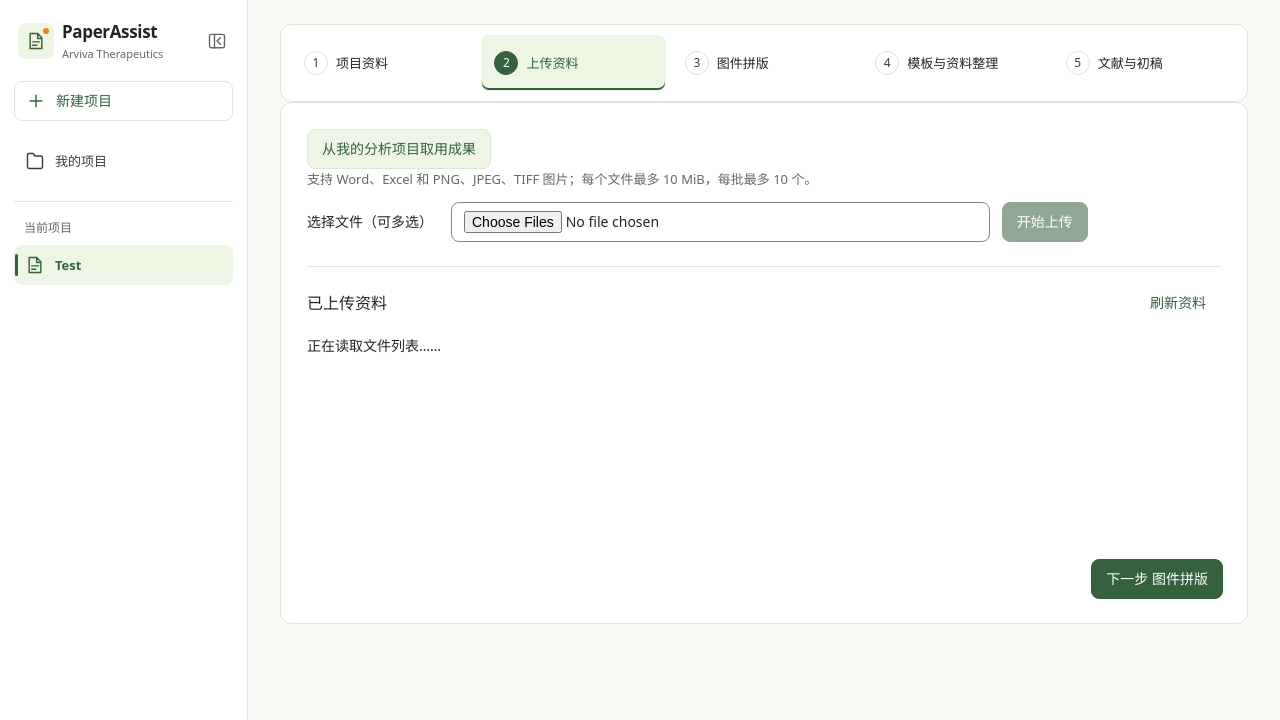
Scenario: opens thesis figure assembly and saves a formal figure in the school organizer
The image size is (1280, 720).
Later steps or results of the test are not shown.
Click the button "下一步 图件拼版".
click(1157, 579)  # box [1091, 559, 1223, 599]
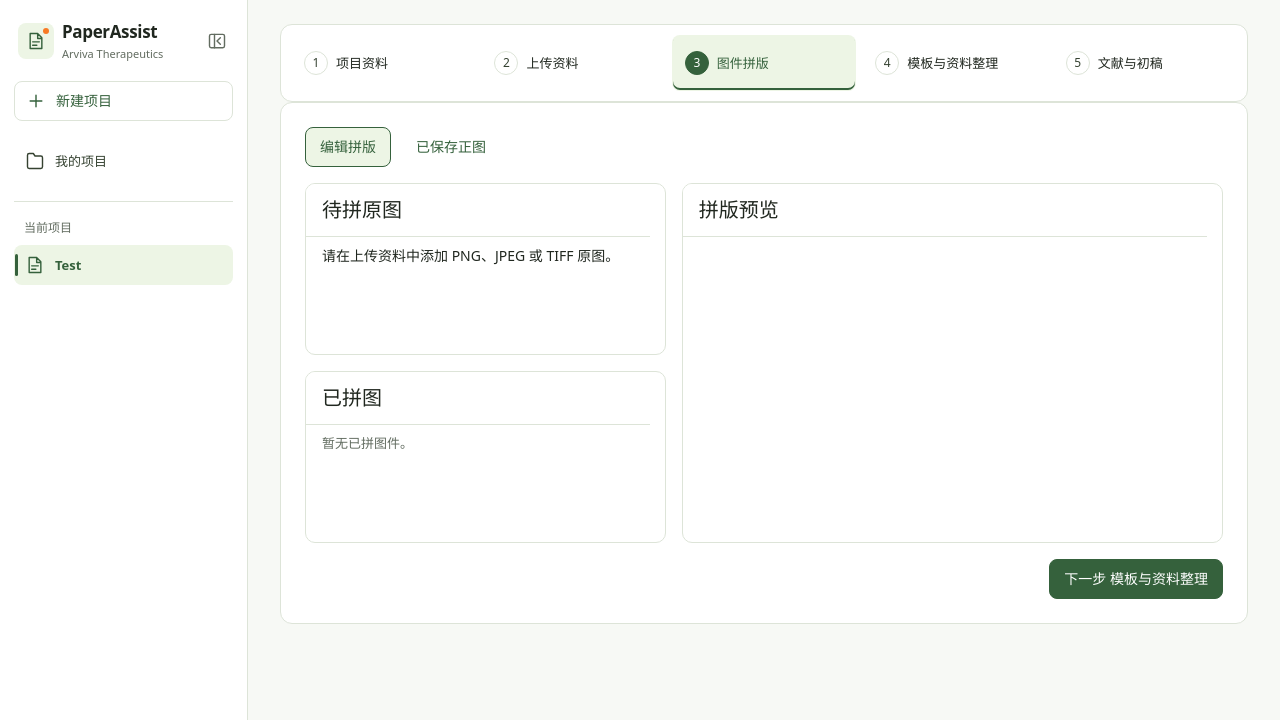
Expected: the button with aria-label "第 3 步：图件拼版" is shown, [672, 35, 856, 91]
Click the button "已保存正图".
click(451, 147)  # box [401, 127, 501, 167]
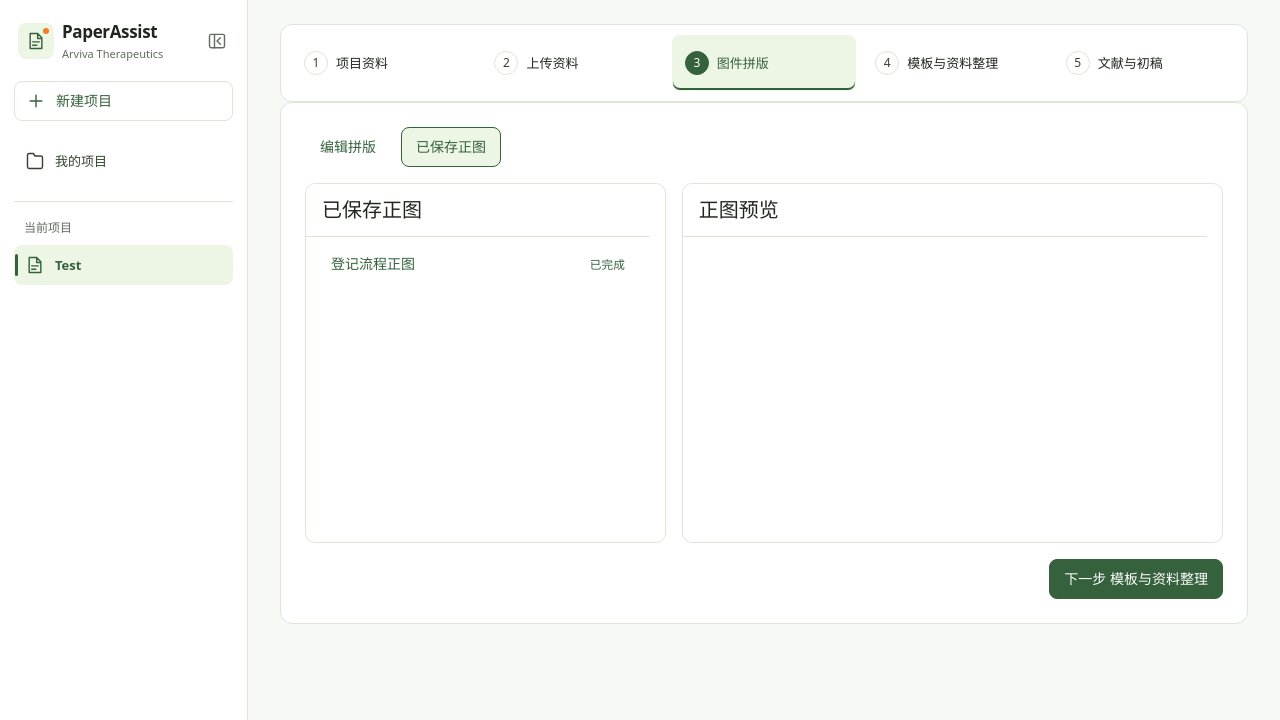
Expected: the button "登记流程正图 已完成" is shown, [322, 245, 634, 285]
Click the button "下一步 模板与资料整理".
click(1136, 579)  # box [1049, 559, 1223, 599]
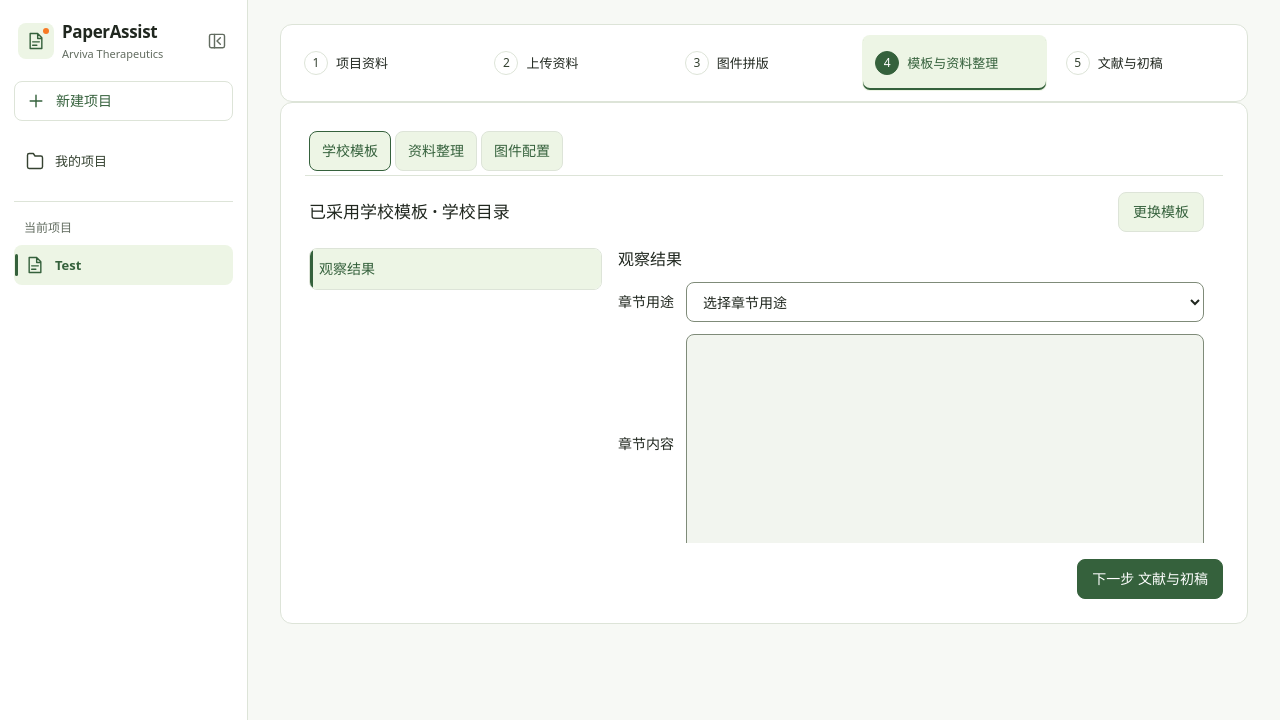
Expected: the button with aria-label "第 4 步：模板与资料整理" is shown, [862, 35, 1047, 91]
Expected: the heading "已采用学校模板 · 学校目录" is shown, [309, 200, 510, 224]
Click the button "图件配置".
click(522, 151)  # box [481, 131, 563, 171]
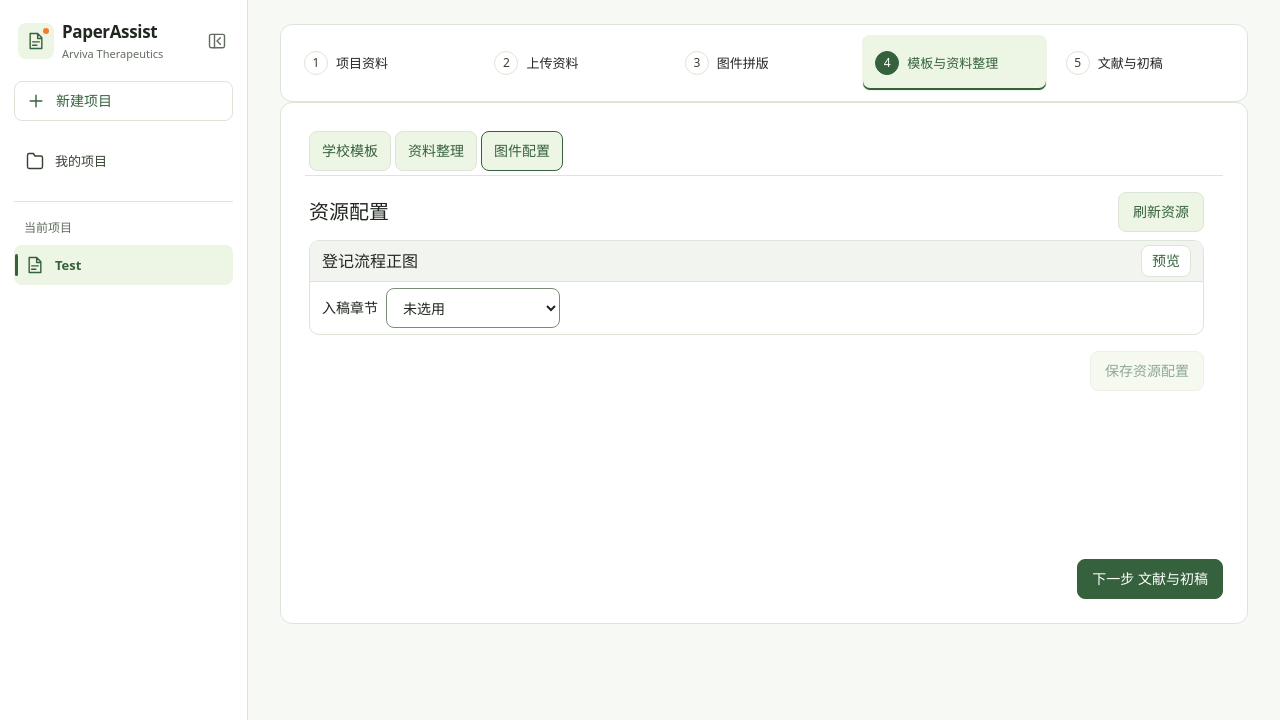
Select "观察结果" in the dropdown named "入稿章节 登记流程正图" at (473, 308), box [386, 288, 560, 328]
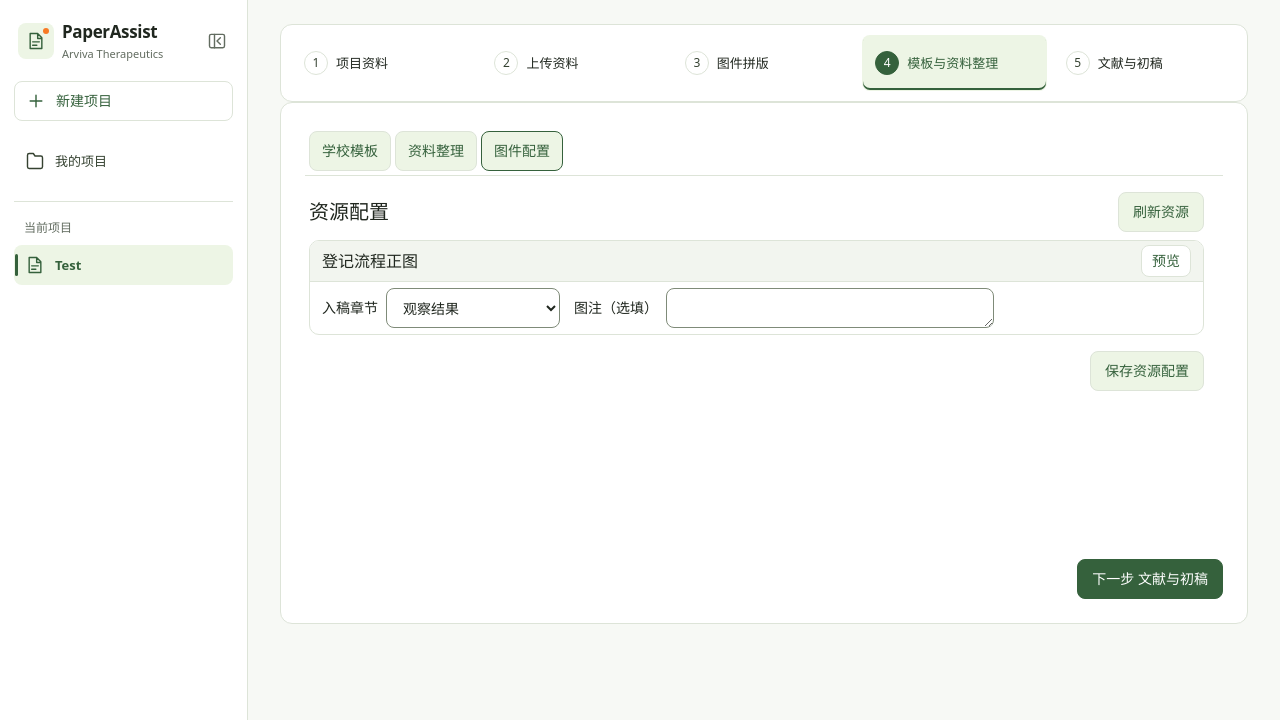
Type "登记与核对流程。" into the text box named "图注 登记流程正图".
click(830, 308); type("登记与核对流程。")  # box [666, 288, 994, 328]
Click the button "保存资源配置".
click(1147, 371)  # box [1090, 351, 1204, 391]
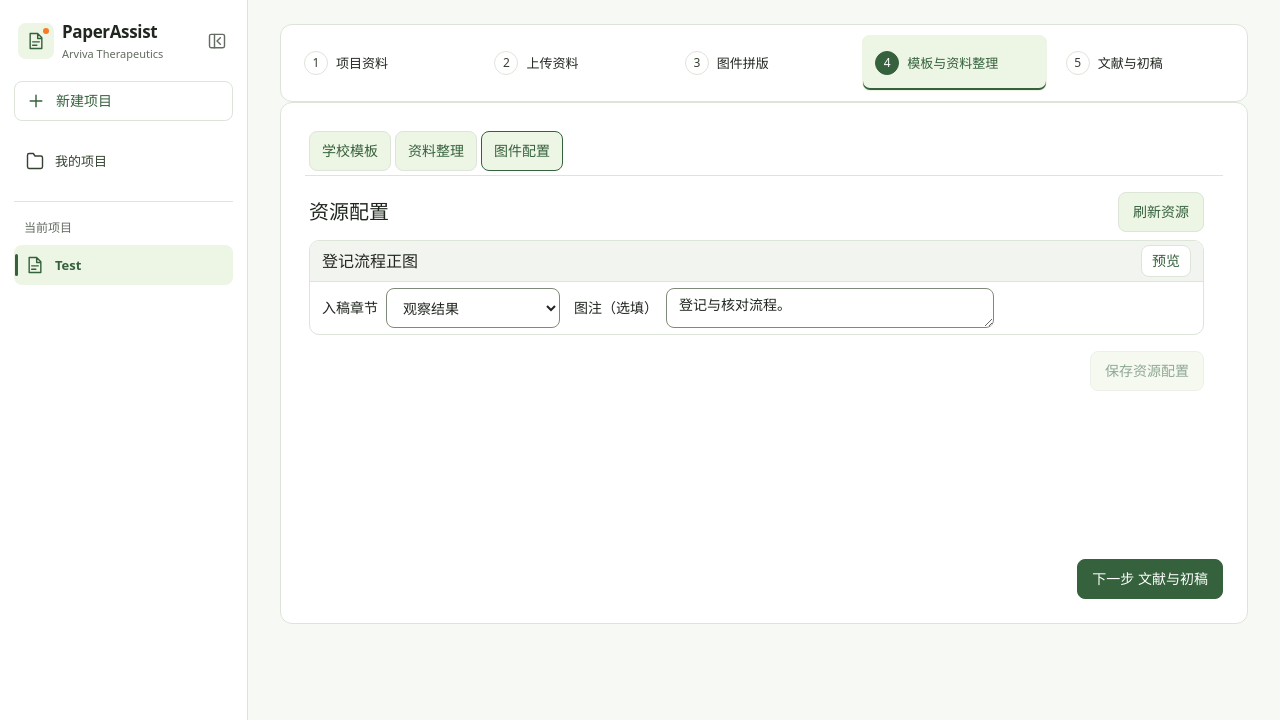
Expected: the dropdown named "入稿章节 登记流程正图" is enabled, [386, 288, 560, 328]
Expected: the button "保存资源配置" is disabled, [1090, 351, 1204, 391]
